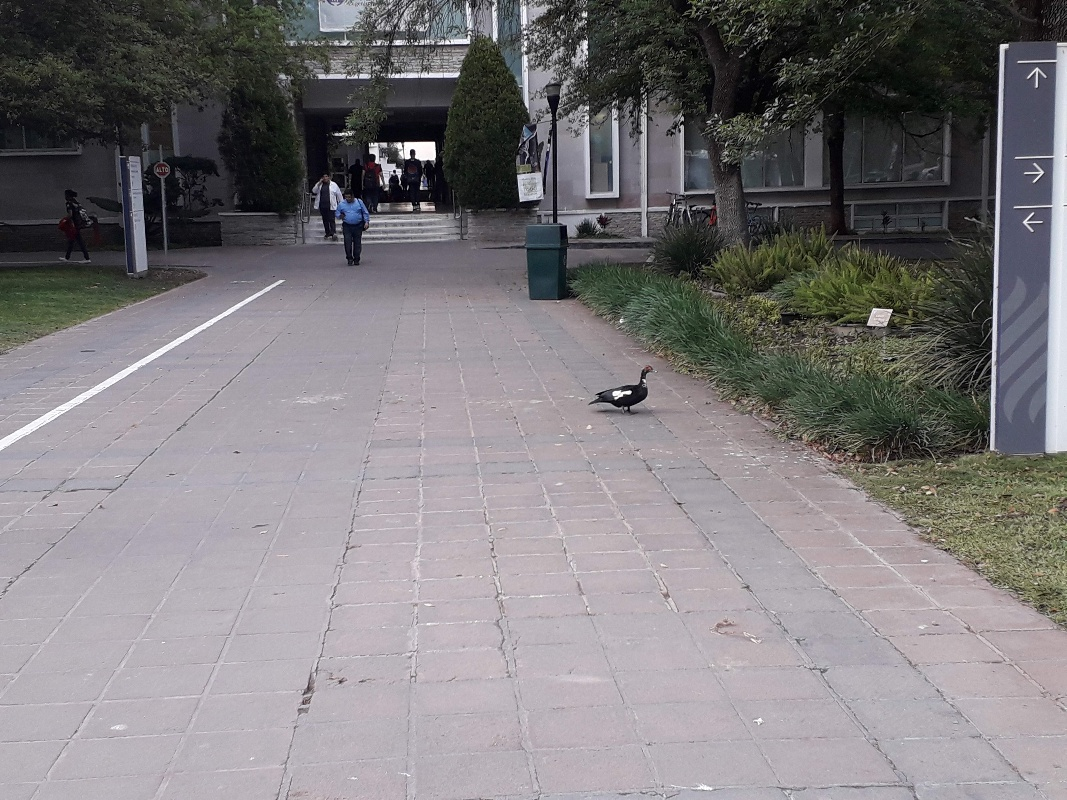pato: (588, 362, 658, 415)
